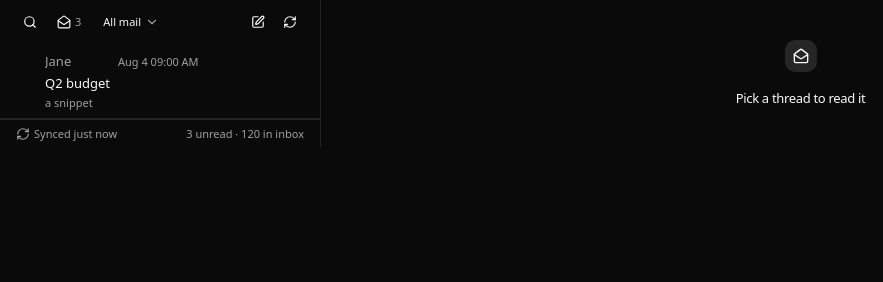
Test: lists attachments on an open message
Click the button "Jane Q2 budget a snippet Aug 4 09:00 AM".
click(78, 83)  # box [22,44,320,118]
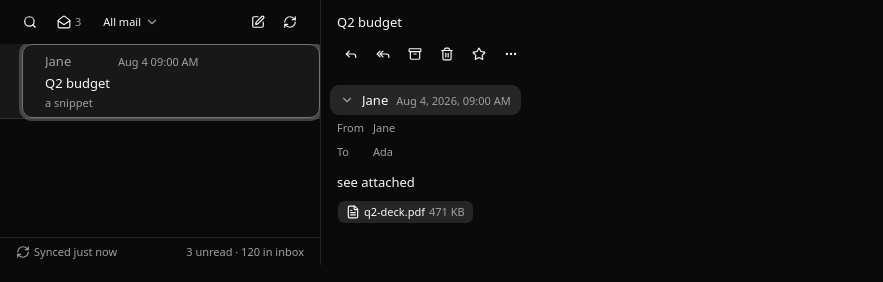
Expected: the text "q2-deck.pdf" is shown, [364,204,425,220]
